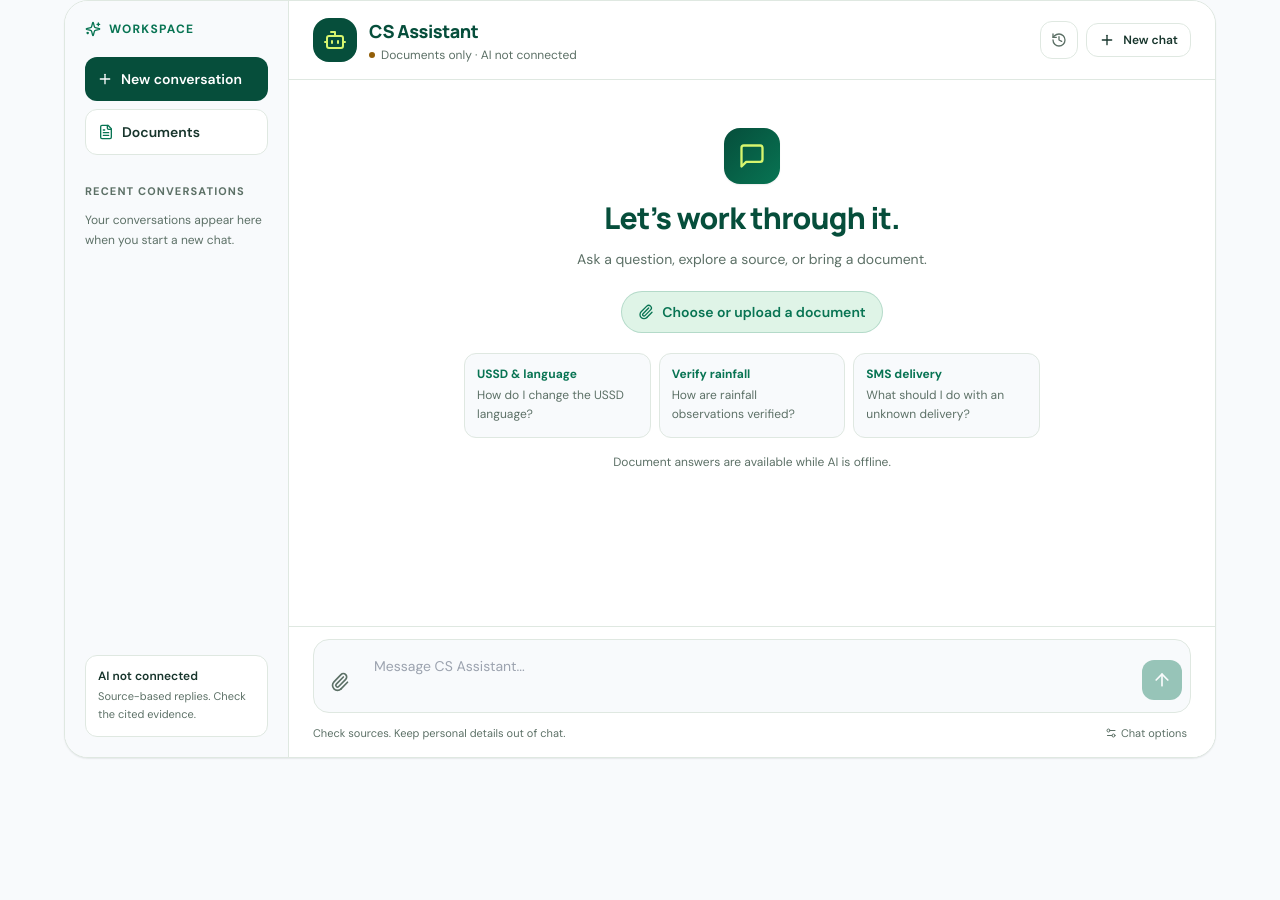
restores an earlier chat from page-only history
Type "USSD language" into the text box named "Your question". click: (750, 676)
box: [366,648,1134,704]
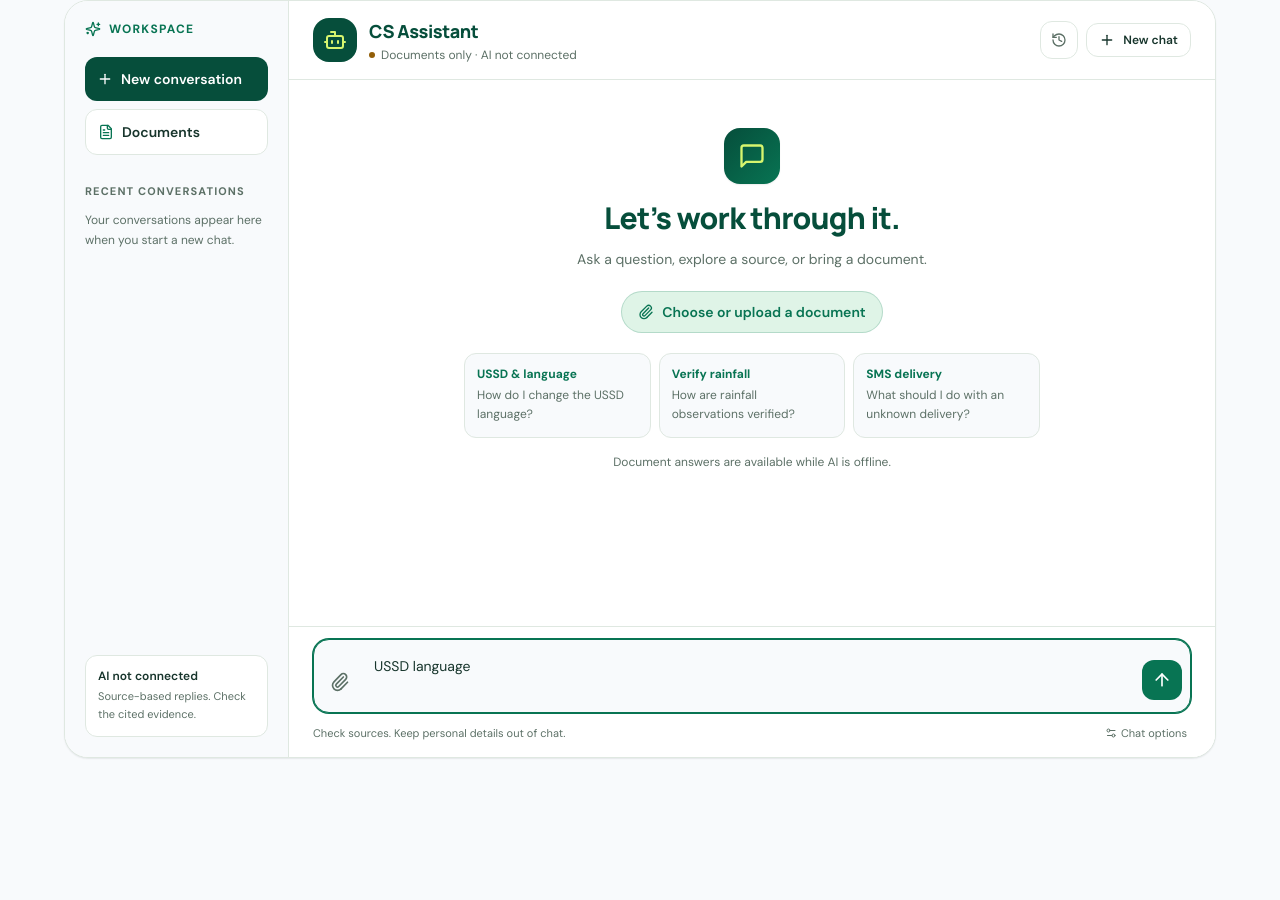
Click the button named "Ask assistant". click: (1162, 680)
box: [1142,660,1182,700]
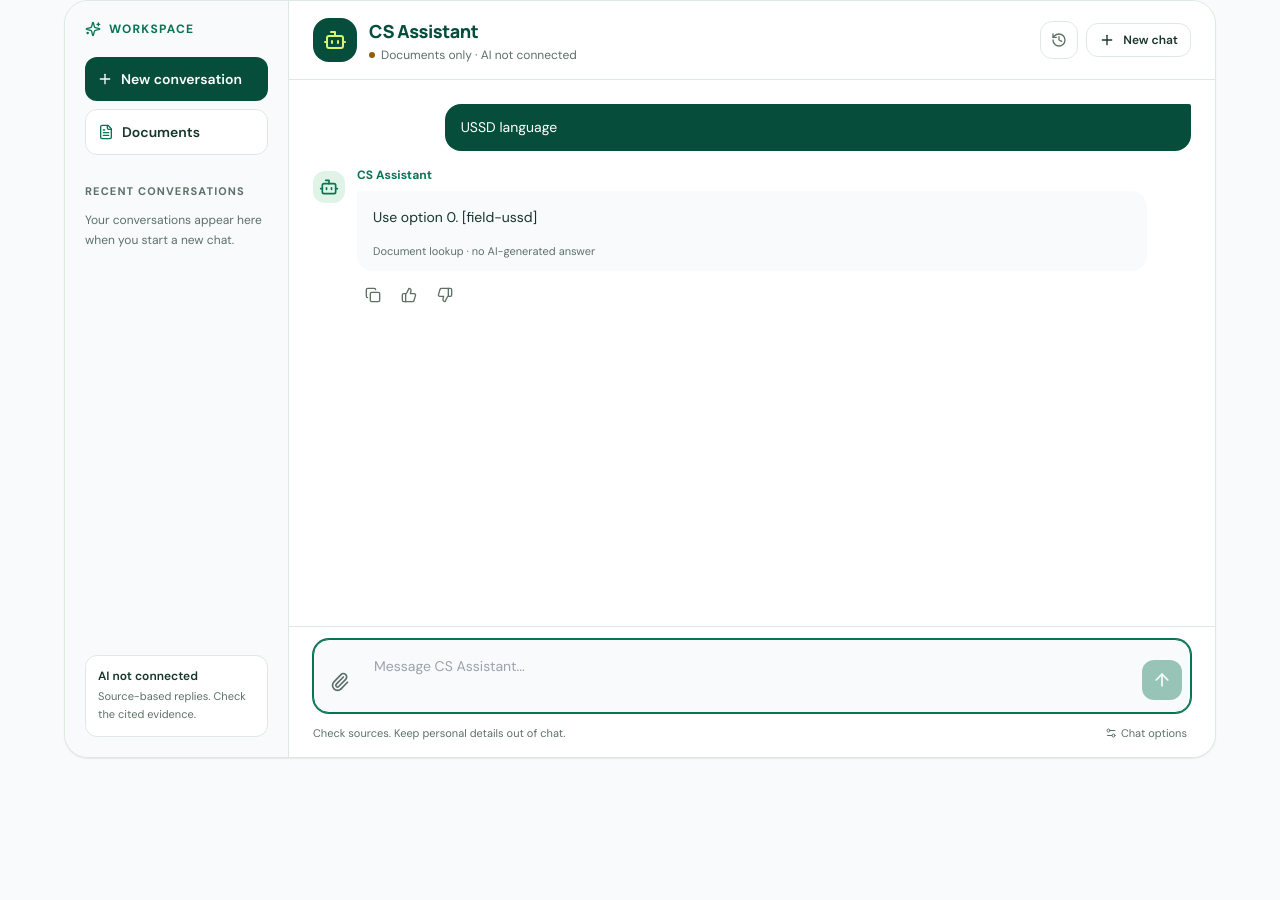
Now the text "Use option 0. [field-ussd]" is shown, box [373,208,537,226]
Click the button "New chat". click: (1139, 40)
box: [1086,23,1191,57]
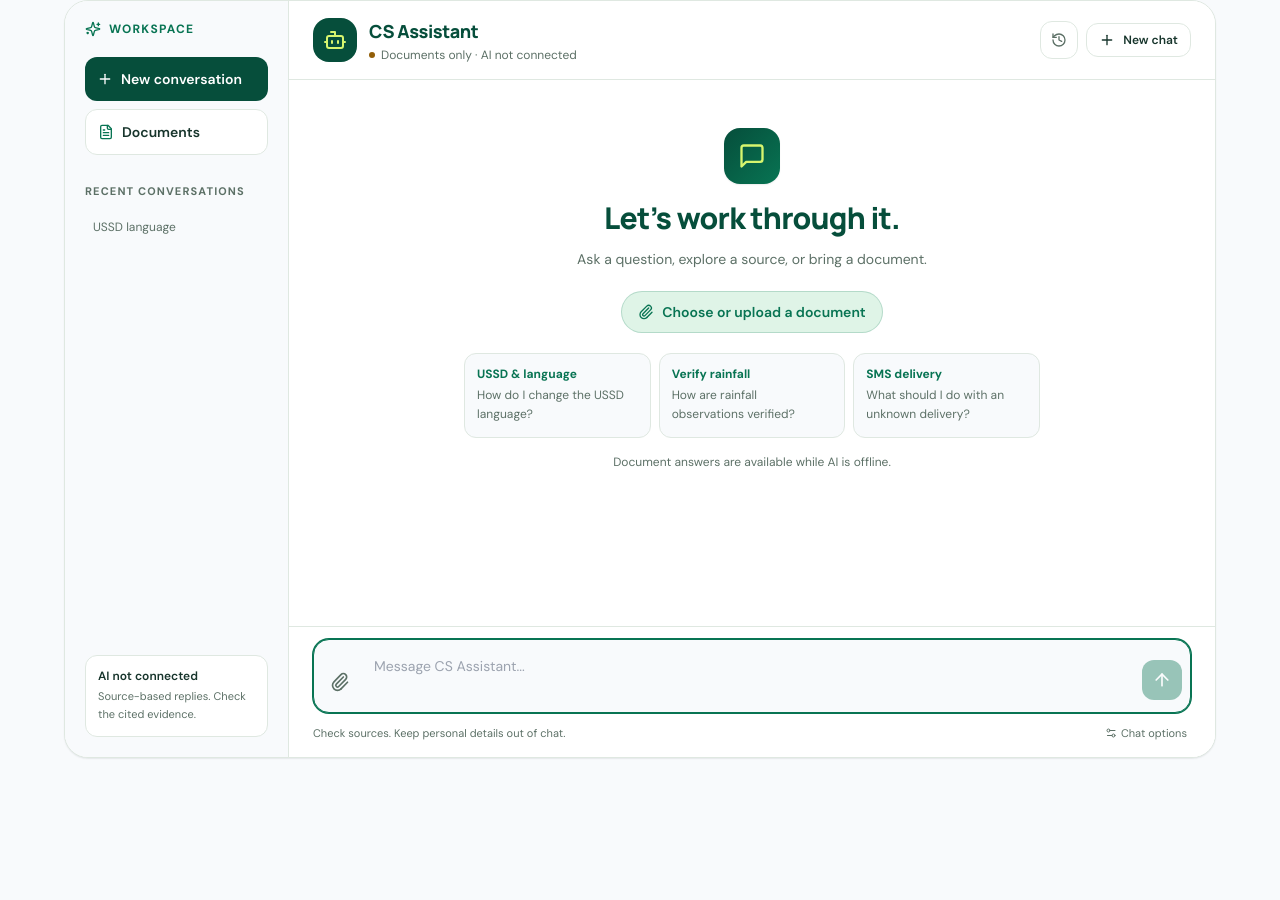
Click the heading named "Conversation history". click: (1059, 40)
box: [1040,21,1078,59]
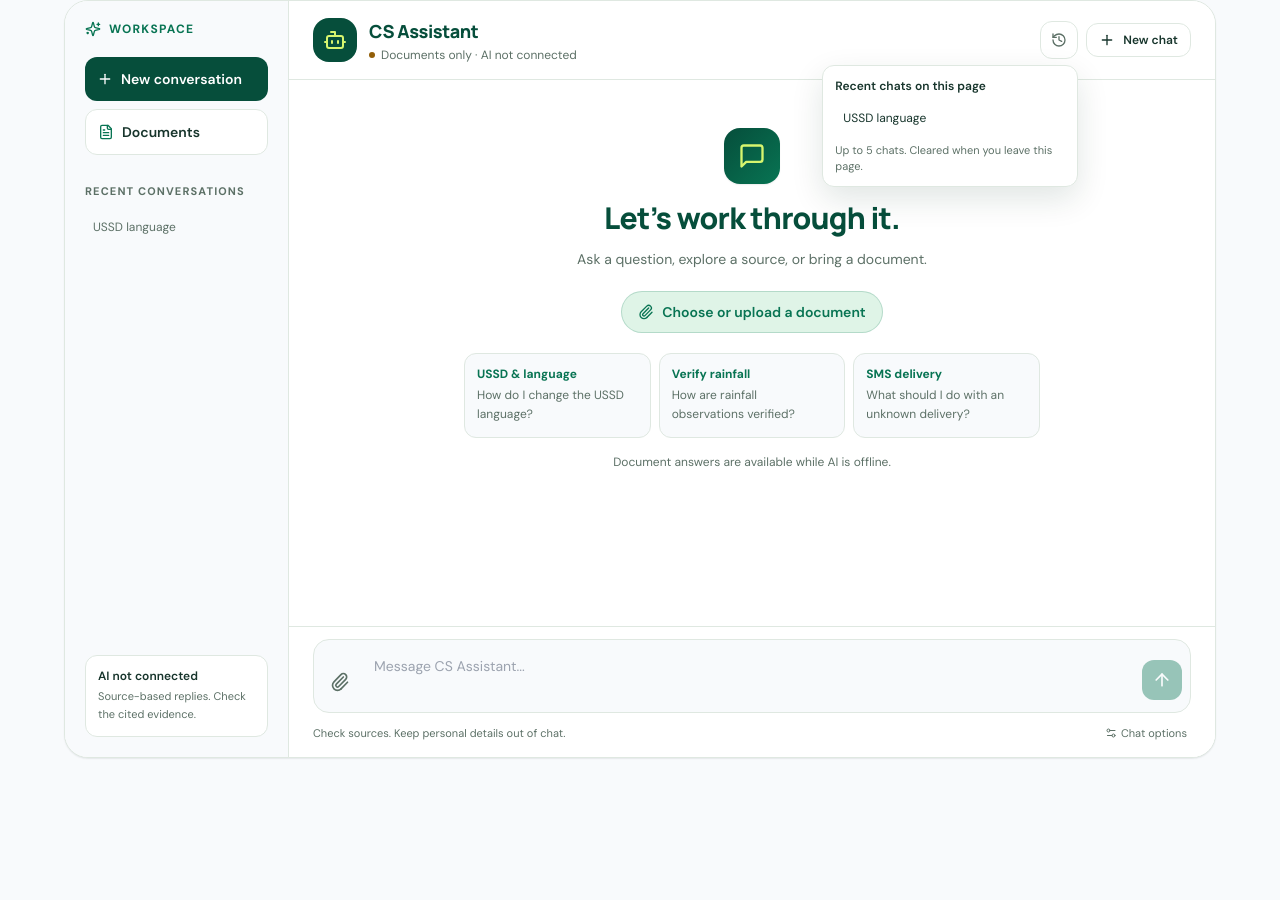
Click the button "USSD language" below "Recent chats on this page". click: (950, 118)
box: [835,102,1065,134]
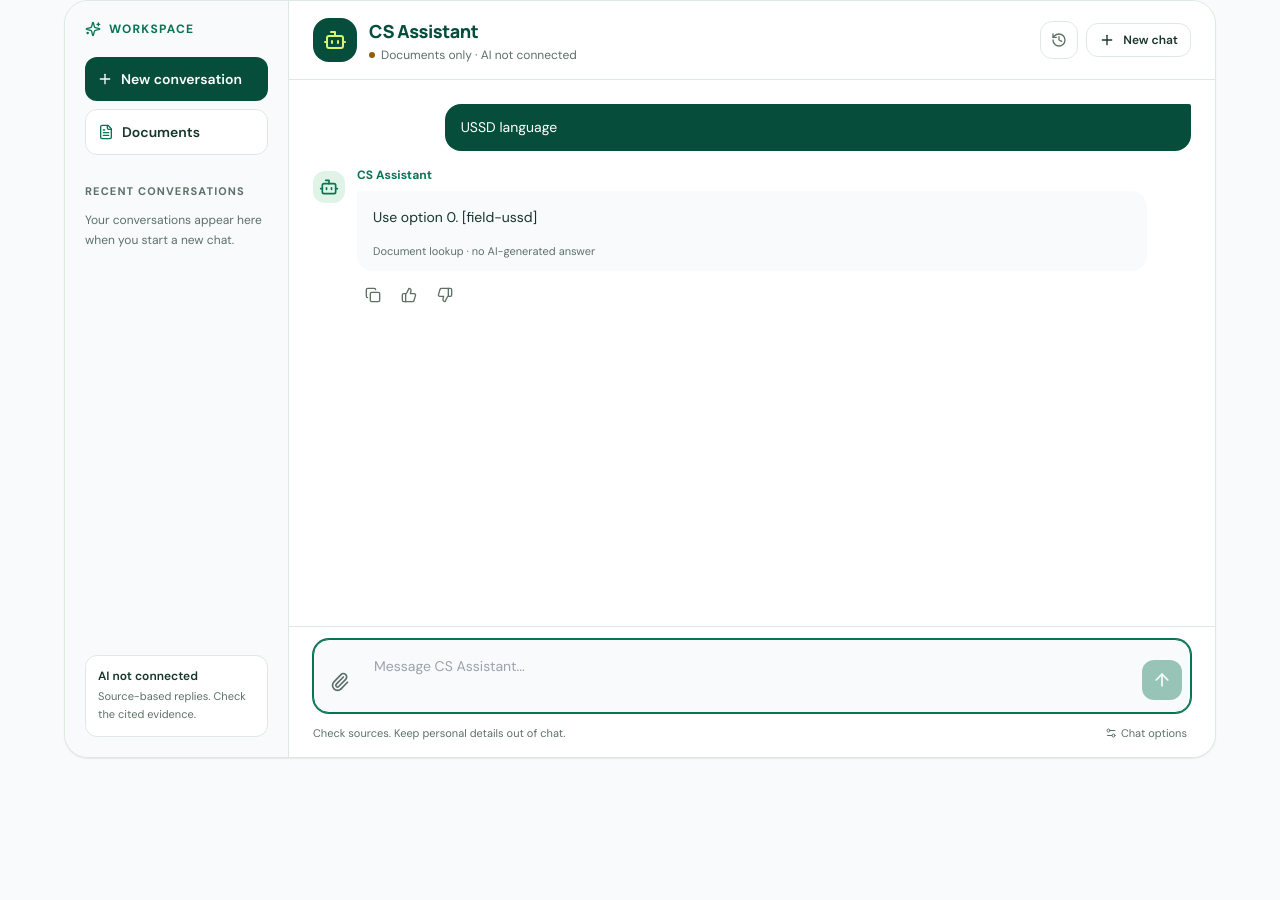
Now the text "Use option 0. [field-ussd]" is shown, box [373,208,537,226]
